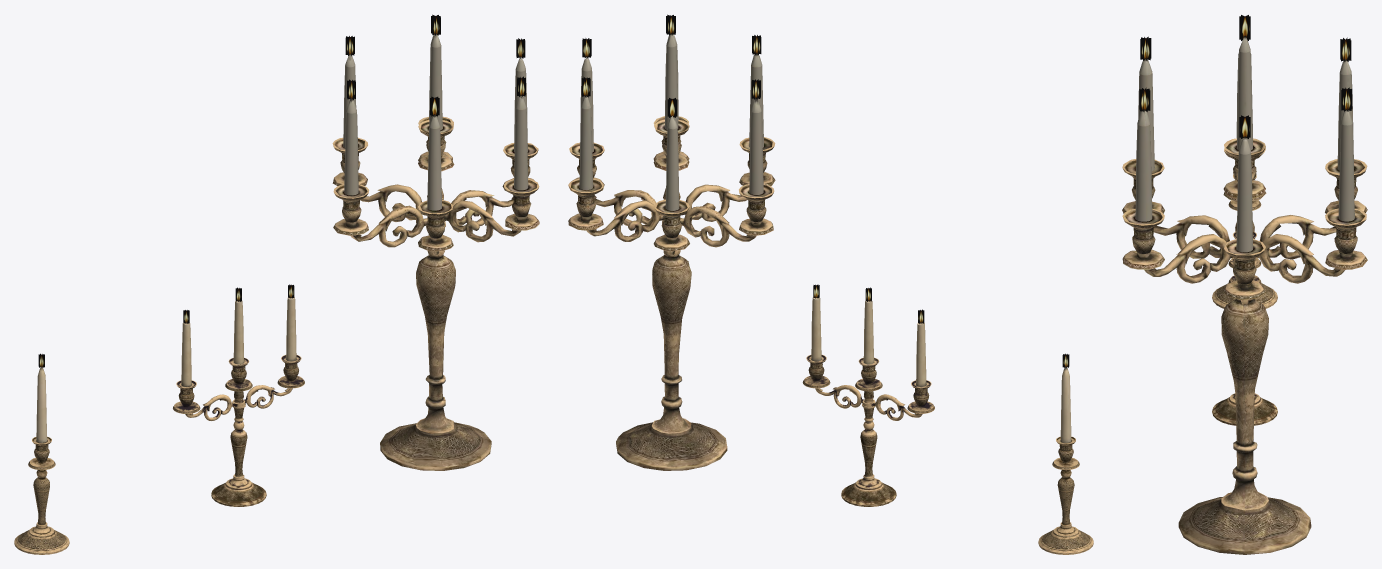
Rendered from brass_candleholders.glb.
3 views of the same model, side by side, from view 1: azimuth 30°, elevation 25°; view 2: azimuth 150°, elevation 25°; view 3: azimuth 270°, elevation 25° (orthographic). The views are drawn at different scales.
Visible parts, largest first — view 1: brass_candleholder_03, brass_candleholder_02, brass_candleholder_01; view 2: brass_candleholder_03, brass_candleholder_02, brass_candleholder_01; view 3: brass_candleholder_03, brass_candleholder_02, brass_candleholder_01.
Part boxes in pixels (left/top/right/bottom): brass_candleholder_03: left=38, top=14, right=539, bottom=470; brass_candleholder_02: left=173, top=297, right=304, bottom=506; brass_candleholder_01: left=14, top=367, right=69, bottom=554; brass_candleholder_03: left=568, top=14, right=1069, bottom=470; brass_candleholder_02: left=802, top=297, right=934, bottom=506; brass_candleholder_01: left=1038, top=367, right=1093, bottom=554; brass_candleholder_03: left=1122, top=15, right=1367, bottom=554; brass_candleholder_02: left=1212, top=231, right=1277, bottom=425; brass_candleholder_01: left=1212, top=174, right=1277, bottom=308.
Size of the model in its own units: 1.05 by 0.8353 by 0.3644.
5 materials, 5 textured.
